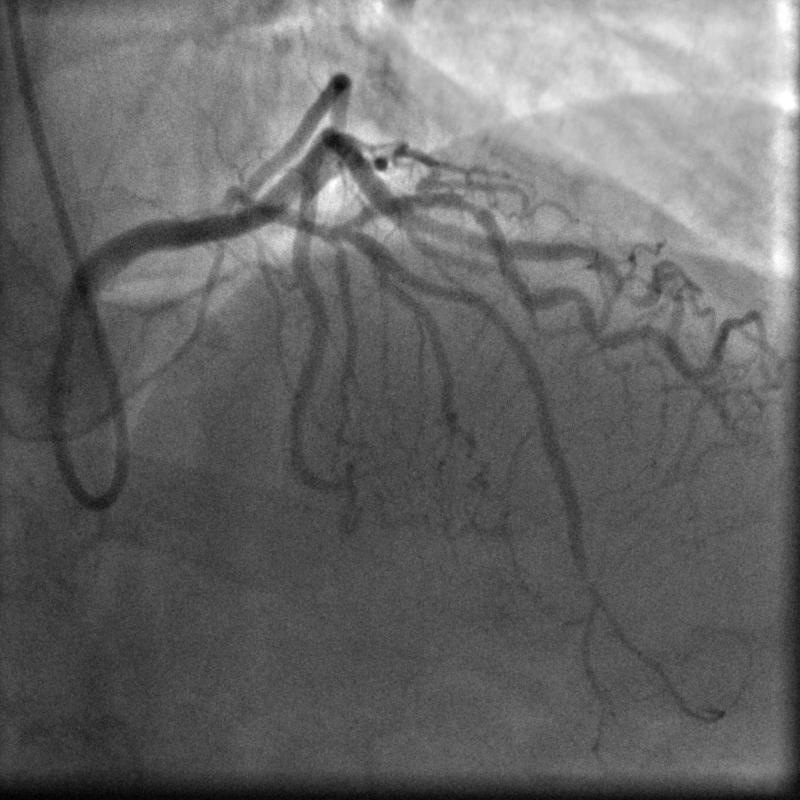Stenosis: (451, 192, 488, 230)
